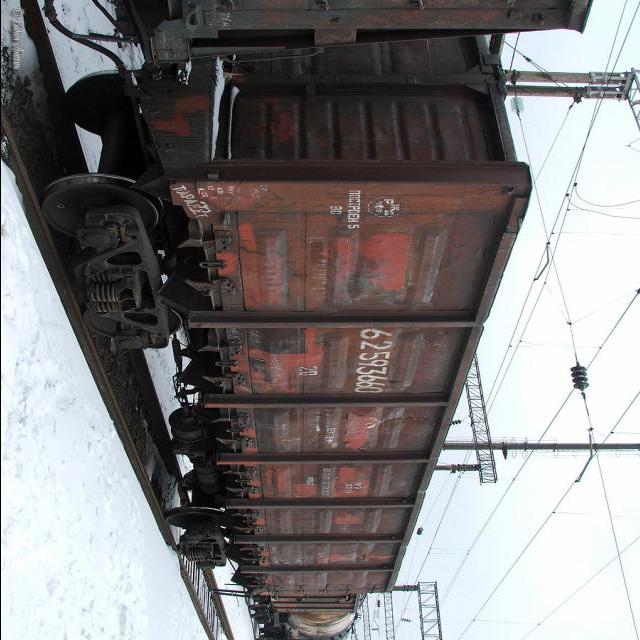wagon: (347, 326, 398, 396)
